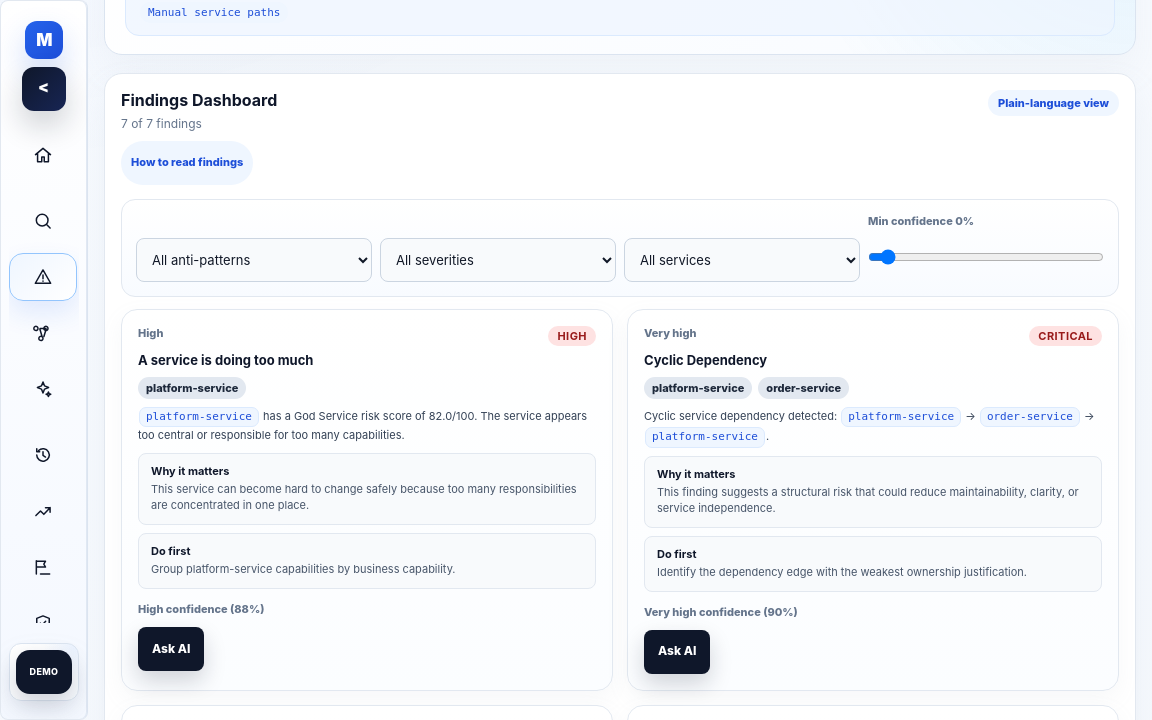
Test: keyboard use › closes the drawer from the backdrop
(page scrolled)
Click the button with class "findingCardOpen" showing "A service is doing too much": coordinates (226, 360) [138, 352, 313, 369]
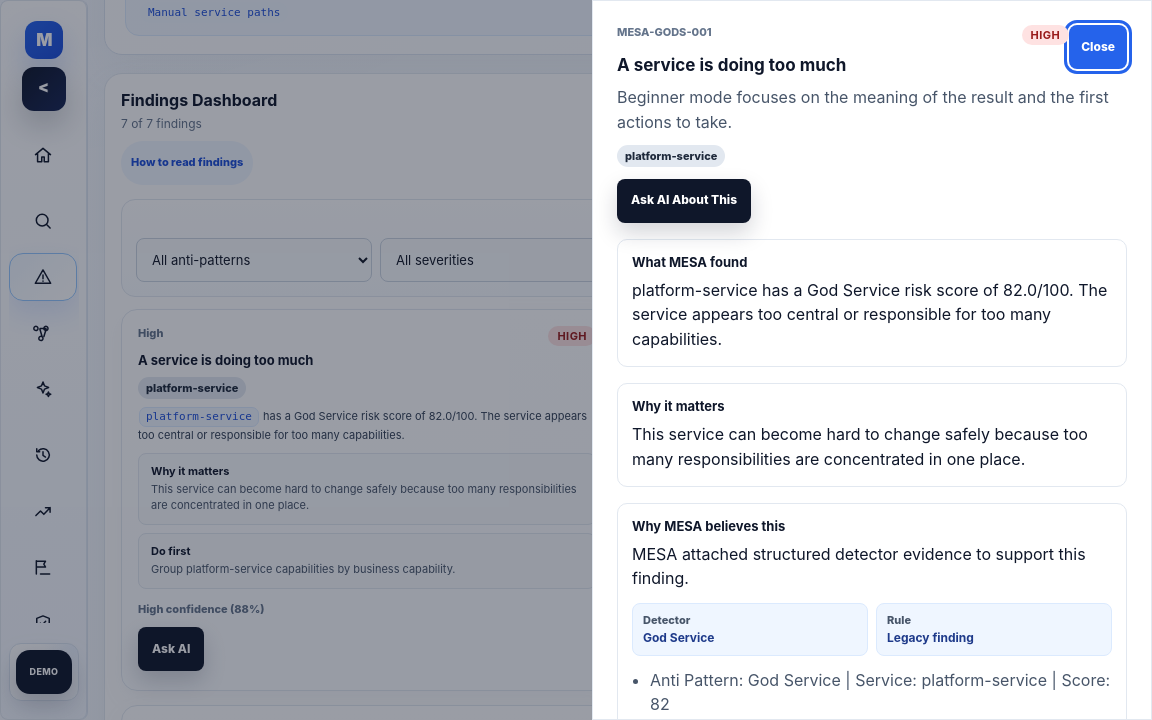
Click the element with class "drawerBackdrop": coordinates (576, 360) [0, 0, 1151, 719]
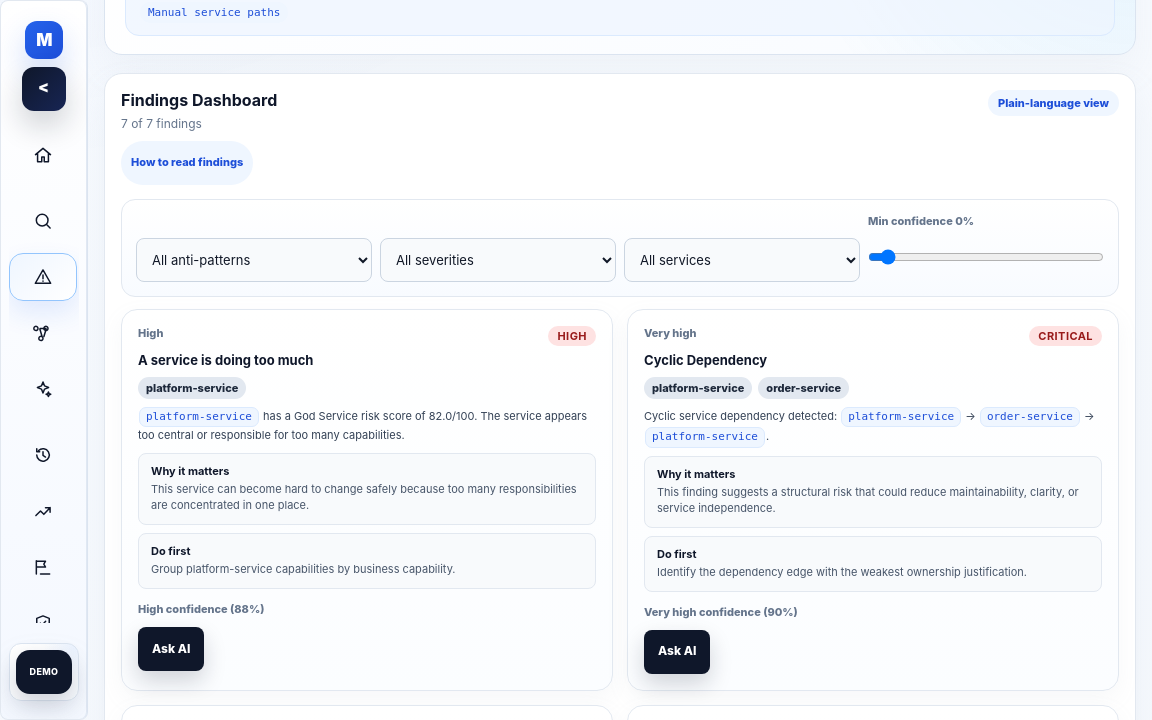
Now the dialog with class "drawer" is gone
